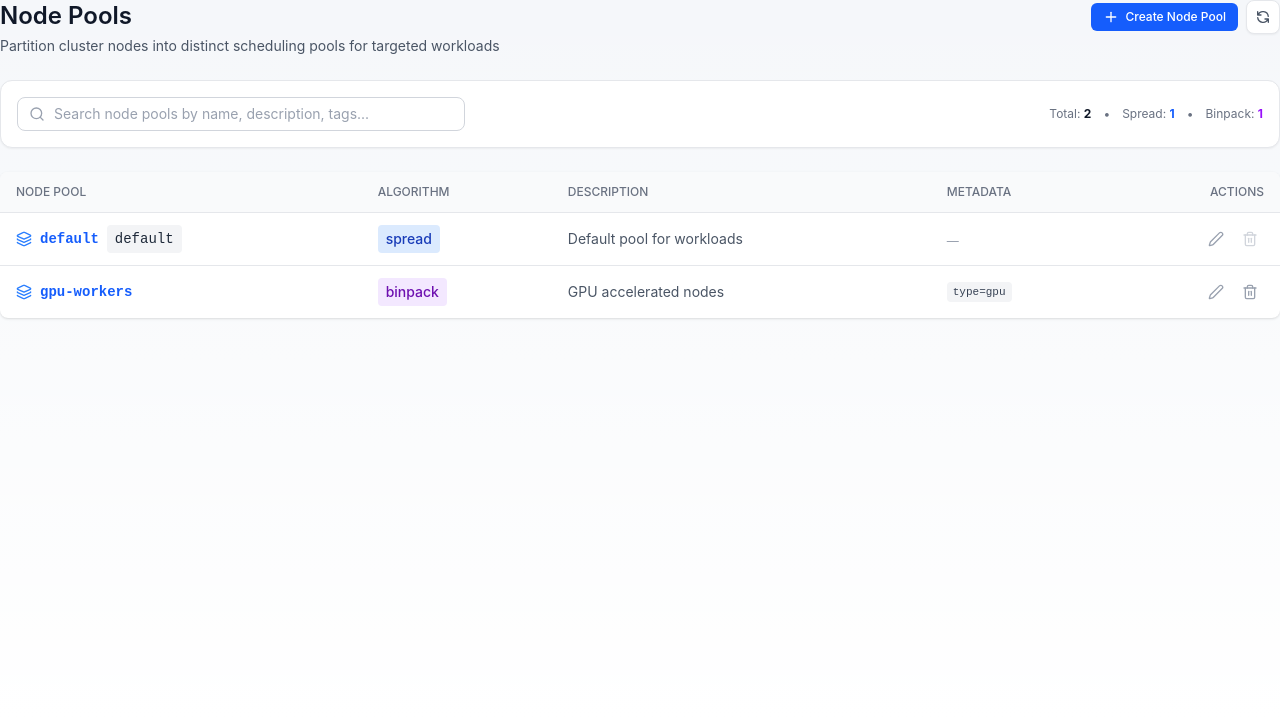
Test: NodePoolsPage › opens view detail modal on pool click
Click the button "gpu-workers" at (74, 292), box [16,282,132,302]
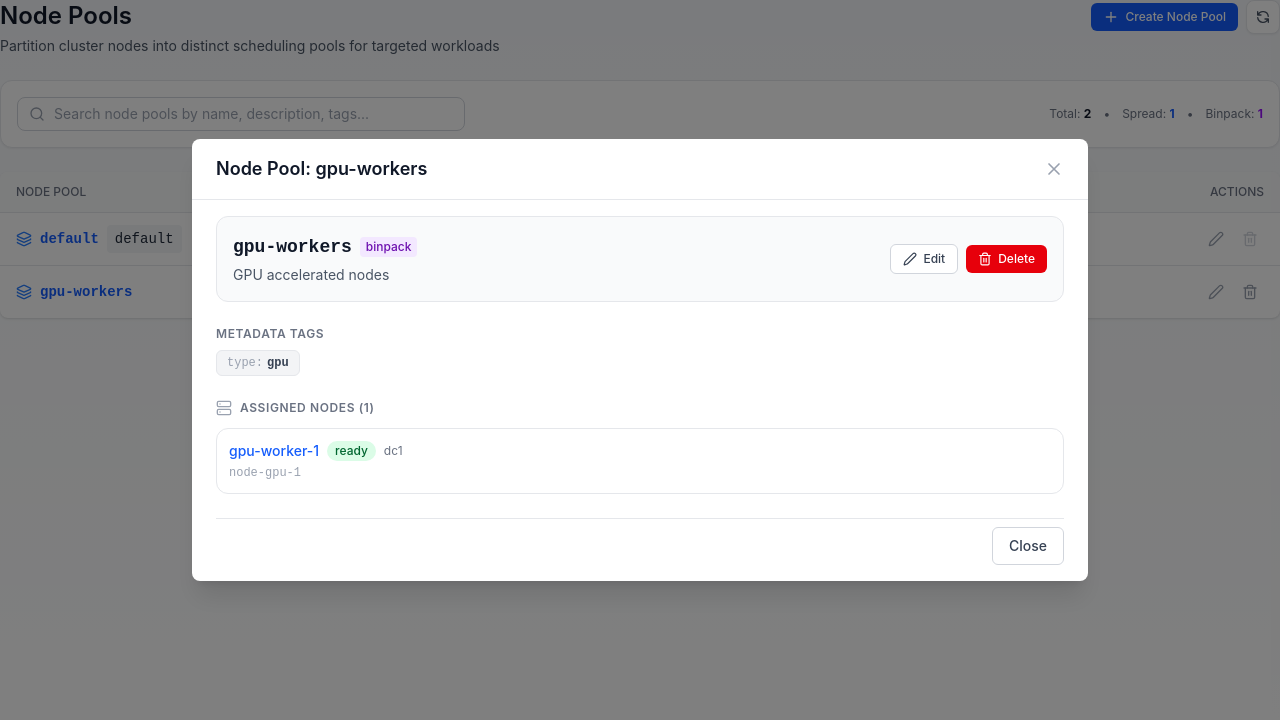
Expected: the heading "Node Pool: gpu-workers" is shown, [216,155,427,183]
Expected: the link "gpu-worker-1" is shown, [229,441,319,461]
